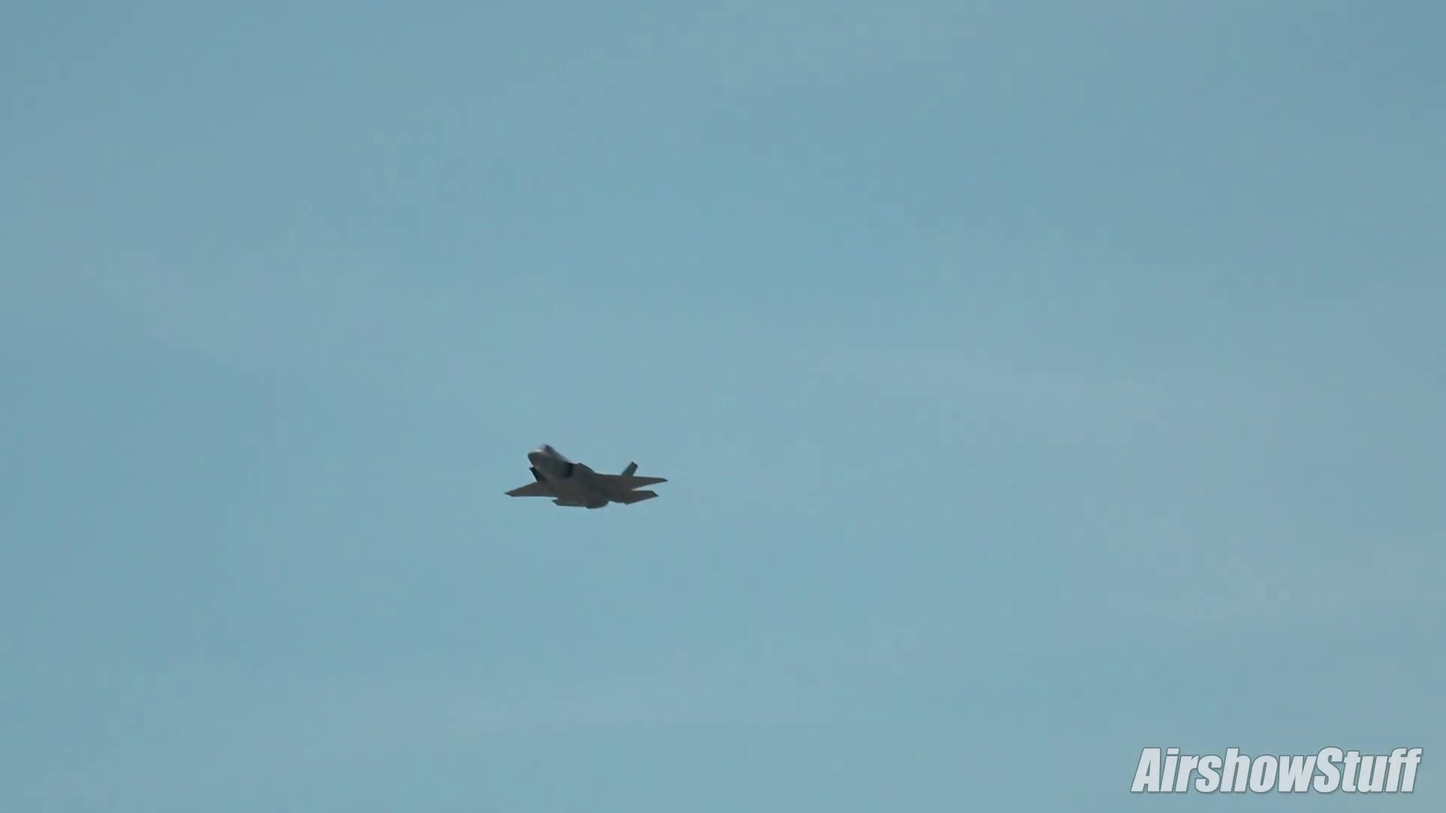F35: (499, 437, 675, 527)
